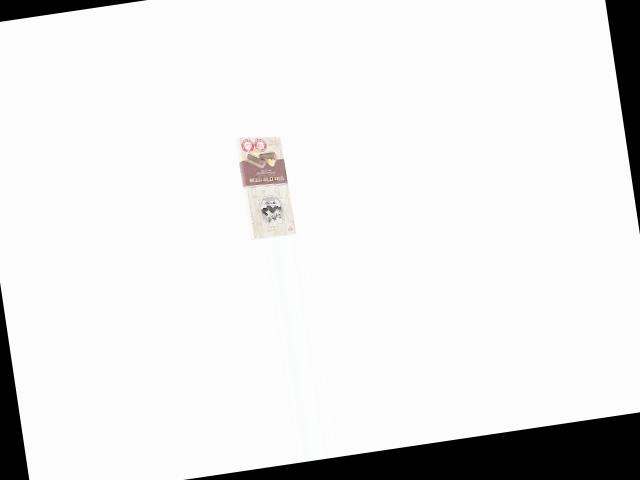chocolate: (227, 129, 298, 242)
